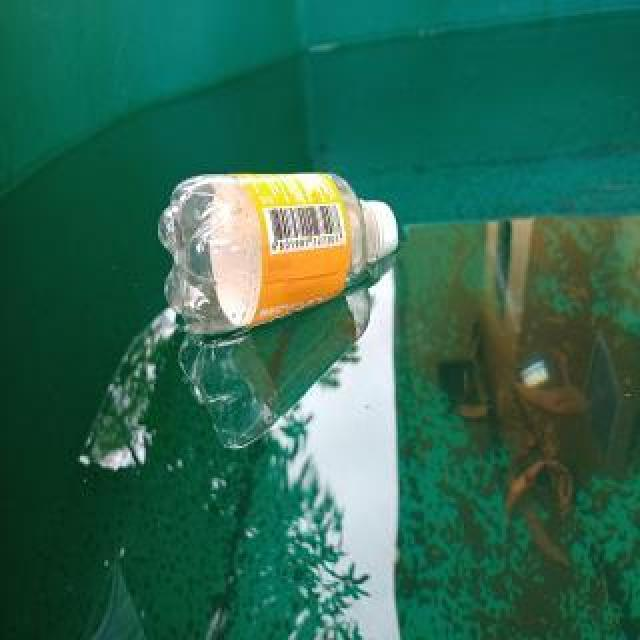bottle: (154, 163, 400, 337)
